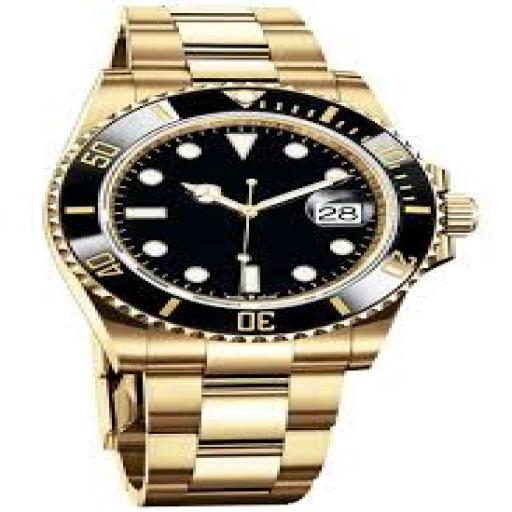KolSaati: (1, 2, 512, 509)
